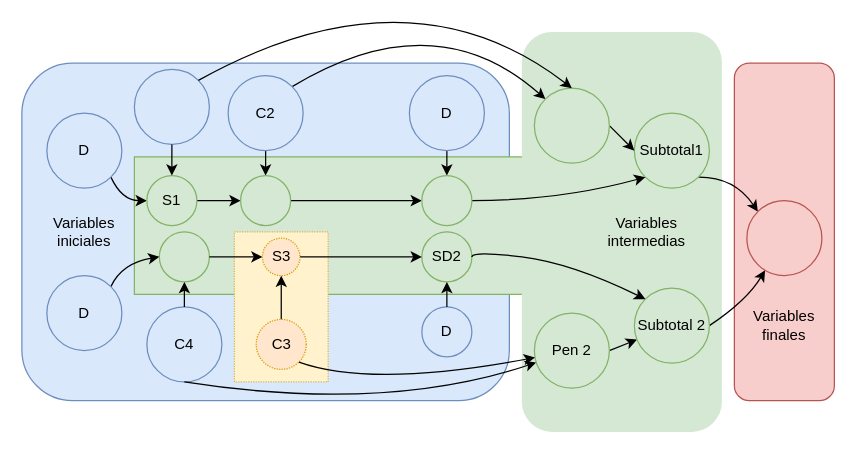
Some shapes in this 856 by 454 pixel diagram are drawn without their labels. Each missing label, with the centre of its shape:
"C1" belongs at (x=171, y=106).
"Pen 1" belongs at (x=571, y=125).
"S2" belongs at (x=265, y=200).
"S4" belongs at (x=183, y=256).
"SD1" belongs at (x=446, y=200).
"Total" belongs at (x=784, y=237).
